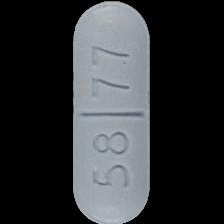35356-964: (0, 0, 224, 224)
